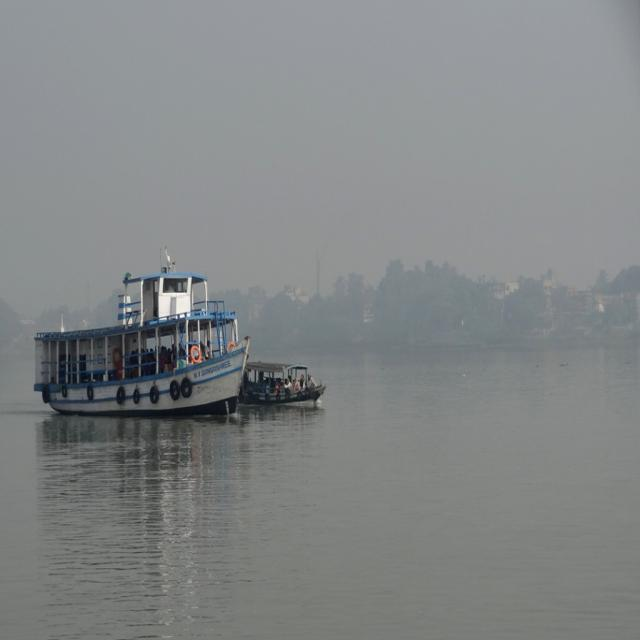passenger ship: (18, 272, 237, 417), (250, 349, 320, 422)
